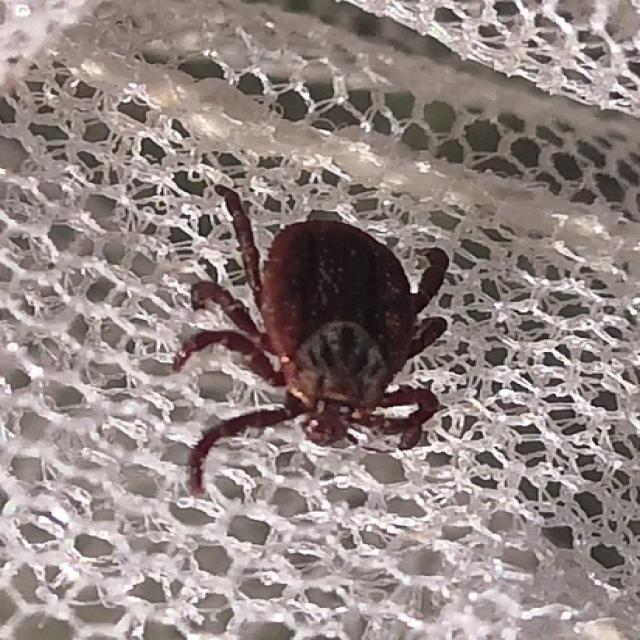Dermacentor Reticulatus-F: (172, 186, 449, 500)
